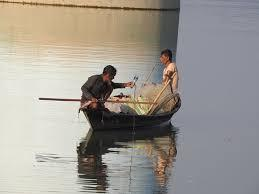fishing boat: (35, 46, 183, 133)
